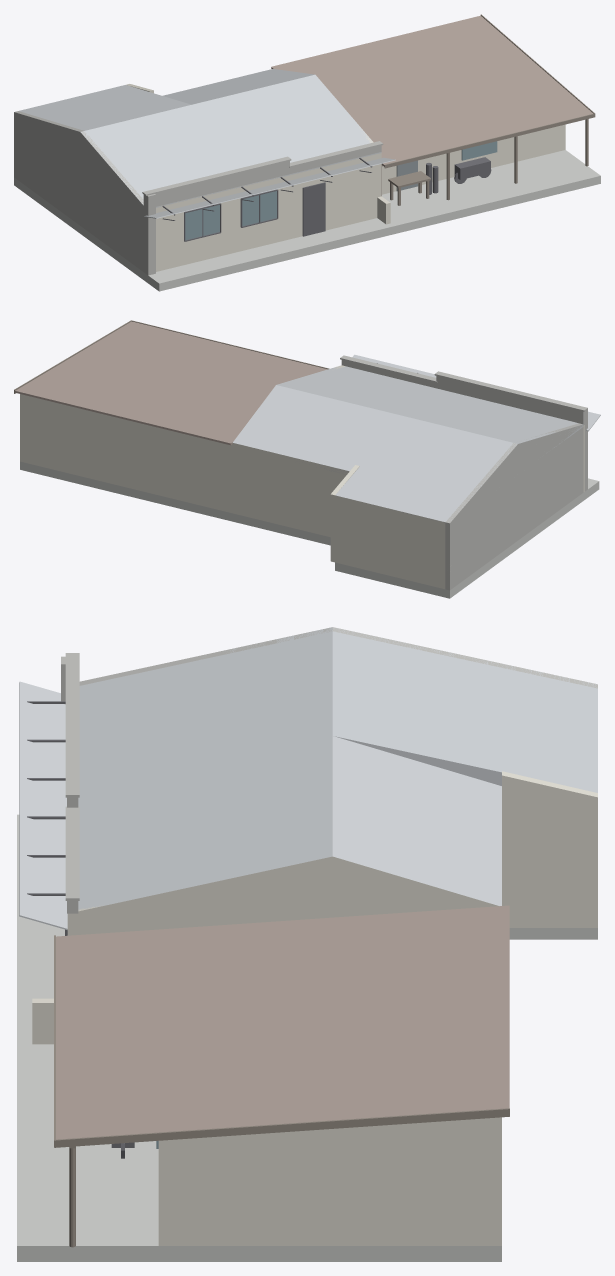
The model's file is motorpool_barracks.glb.
3 views of the same model, one above another, from view 1: azimuth 30°, elevation 25°; view 2: azimuth 150°, elevation 25°; view 3: azimuth 270°, elevation 25° (orthographic). The views are drawn at different scales.
Visible parts, largest first — view 1: MB_MB_RoofCorrugated_Merged, MB_Roof_Porch_Volume, MB_MB_ConcreteGrey_Merged, MB_MB_ConcreteSlab_Merged, MB_MB_WallStucco_Merged, MB_MB_SteelDark_Merged, MB_MB_PorchPosts_Merged, MB_MB_GlassLouver_Merged; view 2: MB_MB_WallStucco_Merged, MB_MB_RoofCorrugated_Merged, MB_Roof_Porch_Volume, MB_MB_ConcreteGrey_Merged, MB_MB_ConcreteSlab_Merged, MB_MB_PorchPosts_Merged; view 3: MB_MB_RoofCorrugated_Merged, MB_Roof_Porch_Volume, MB_MB_WallStucco_Merged, MB_MB_ConcreteSlab_Merged, MB_MB_ConcreteGrey_Merged, MB_MB_PorchPosts_Merged, MB_MB_SteelDark_Merged.
Part boxes in pixels (x1=…): MB_MB_RoofCorrugated_Merged: x1=19, y1=69, x2=395, y2=218; MB_Roof_Porch_Volume: x1=271, y1=15, x2=593, y2=166; MB_MB_ConcreteGrey_Merged: x1=14, y1=111, x2=383, y2=275; MB_MB_ConcreteSlab_Merged: x1=14, y1=150, x2=600, y2=291; MB_MB_WallStucco_Merged: x1=126, y1=84, x2=565, y2=271; MB_MB_SteelDark_Merged: x1=162, y1=157, x2=491, y2=241; MB_MB_PorchPosts_Merged: x1=381, y1=14, x2=595, y2=205; MB_MB_GlassLouver_Merged: x1=185, y1=141, x2=497, y2=240; MB_MB_WallStucco_Merged: x1=20, y1=365, x2=584, y2=589; MB_MB_RoofCorrugated_Merged: x1=233, y1=354, x2=600, y2=522; MB_Roof_Porch_Volume: x1=15, y1=321, x2=327, y2=445; MB_MB_ConcreteGrey_Merged: x1=340, y1=355, x2=587, y2=590; MB_MB_ConcreteSlab_Merged: x1=20, y1=461, x2=599, y2=598; MB_MB_PorchPosts_Merged: x1=14, y1=320, x2=329, y2=393; MB_MB_RoofCorrugated_Merged: x1=19, y1=627, x2=597, y2=929; MB_Roof_Porch_Volume: x1=56, y1=905, x2=509, y2=1139; MB_MB_WallStucco_Merged: x1=32, y1=771, x2=597, y2=1245; MB_MB_ConcreteSlab_Merged: x1=17, y1=814, x2=597, y2=1261; MB_MB_ConcreteGrey_Merged: x1=61, y1=627, x2=597, y2=913; MB_MB_PorchPosts_Merged: x1=54, y1=935, x2=509, y2=1247; MB_MB_SteelDark_Merged: x1=27, y1=701, x2=134, y2=1158.
Size of the model in its own units: 20.47 by 4.45 by 11.5.
